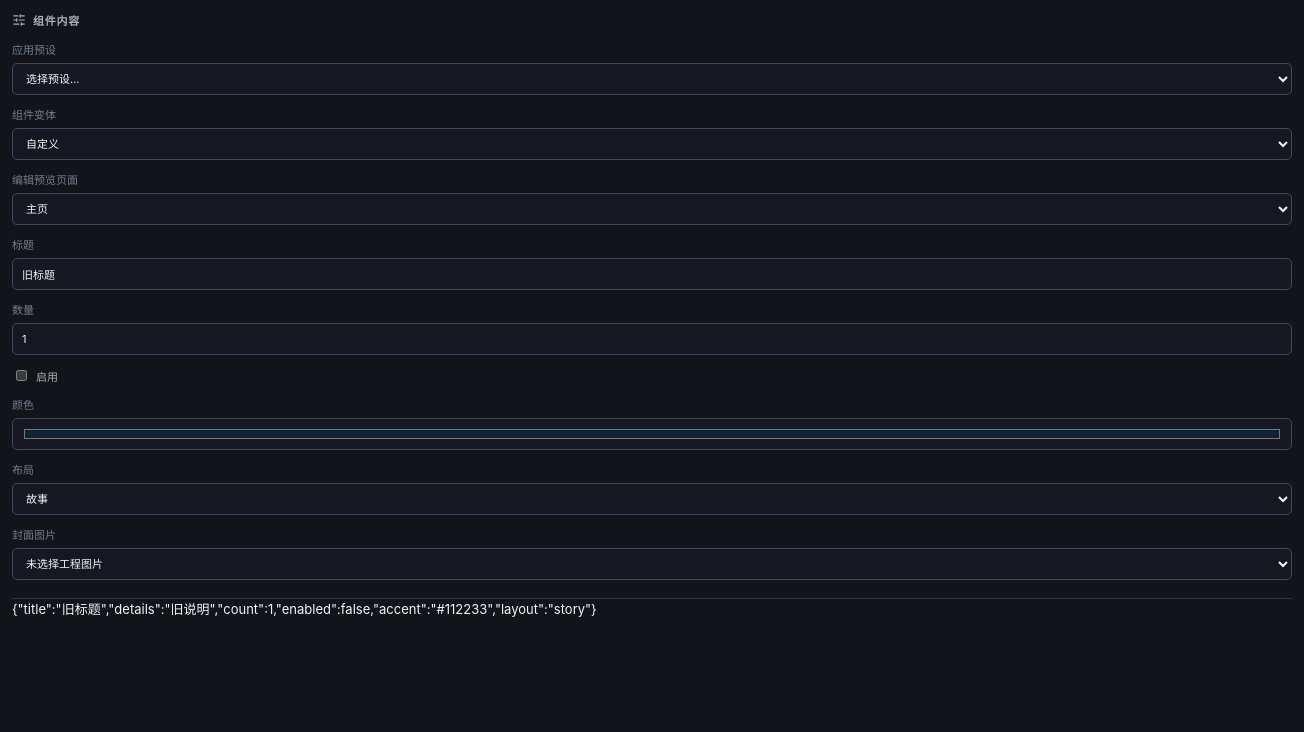
ComponentPropertiesEditor › edits every supported property type and switches internal preview pages
Step 1. Replace the text in the field labelled "标题" with "新标题" → point(652, 274), box [12,258,1292,290]
Step 2. Replace the text in the number field labelled "数量" with "5" → point(652, 339), box [12,323,1292,355]
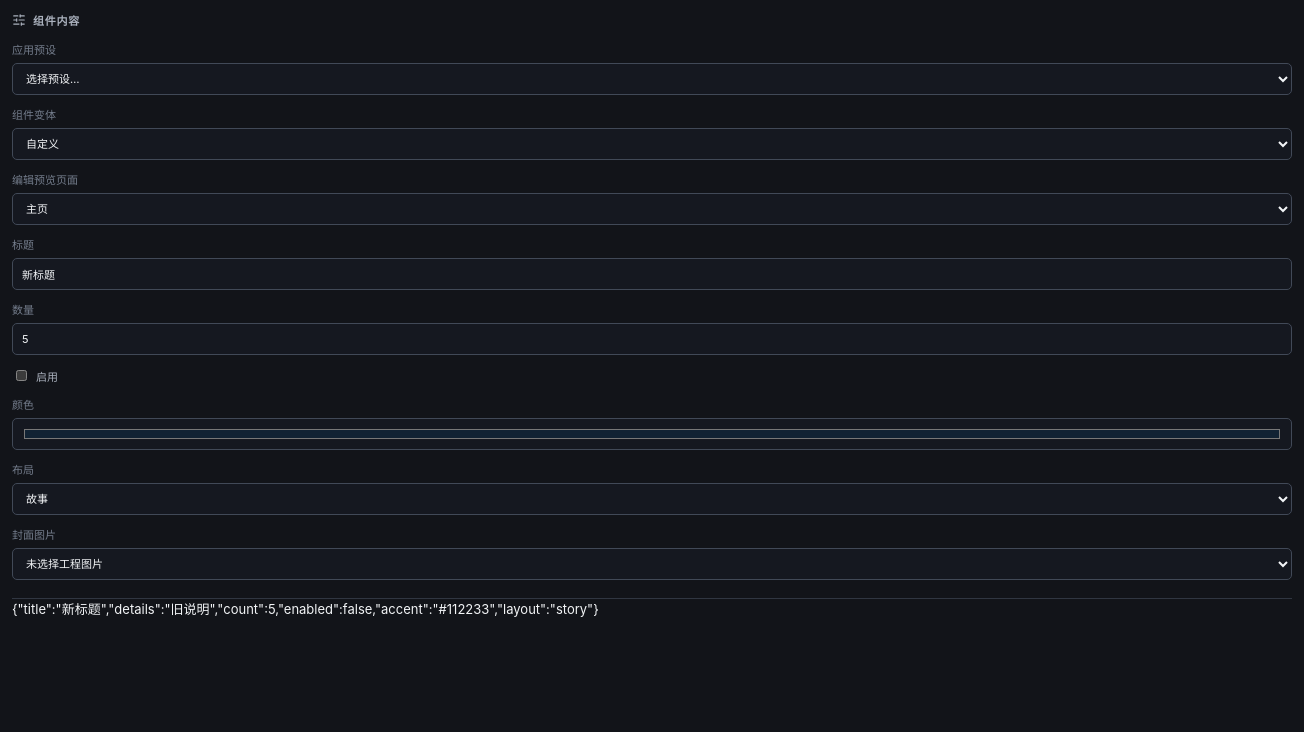
Step 3. Click the checkbox labelled "启用" → point(22, 376), box [16,369,27,382]
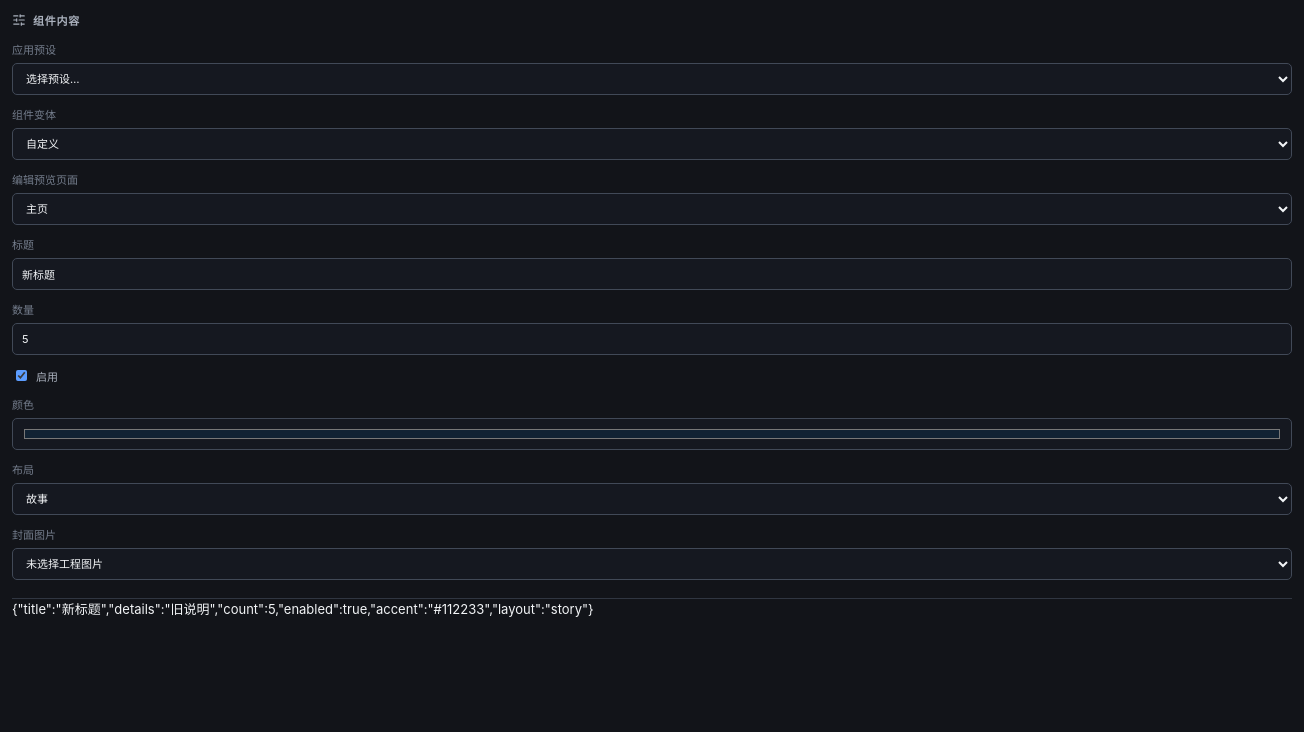
Step 4. Type "#abcdef" into the colour field labelled "颜色" → point(652, 434), box [12,418,1292,450]
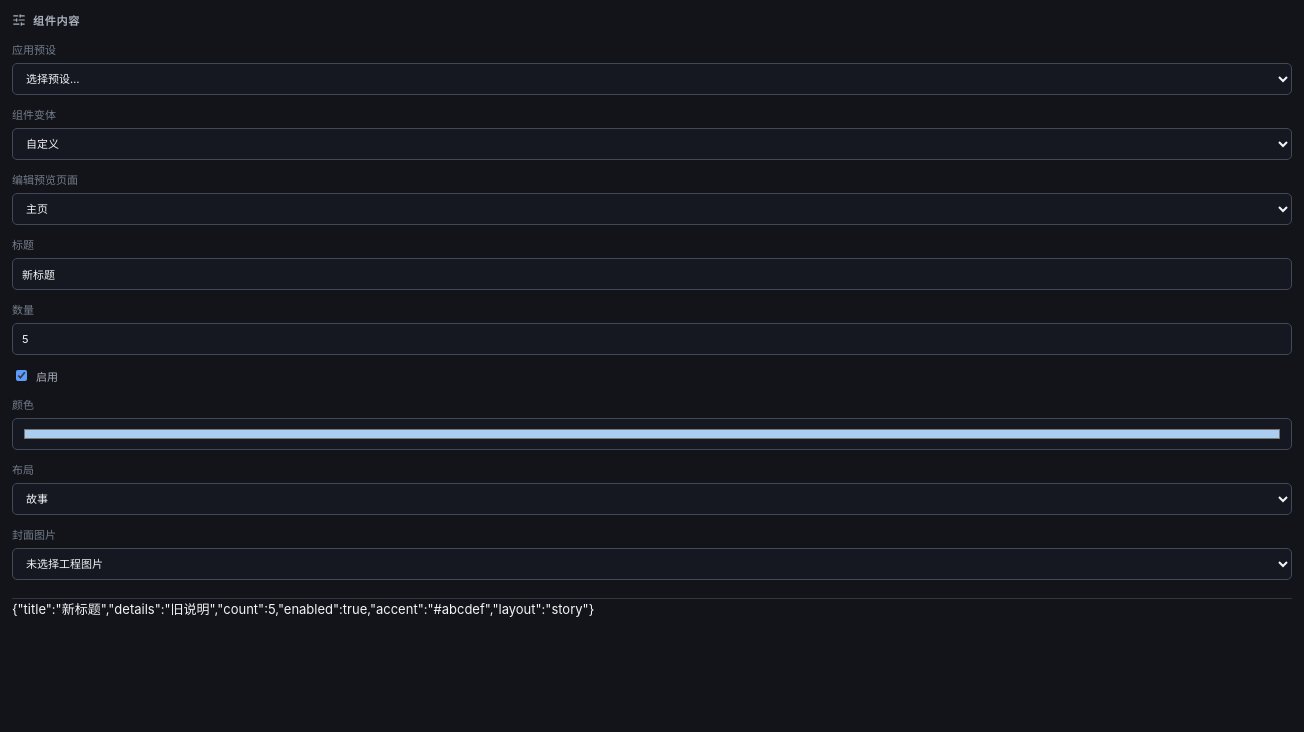
Step 5. Select "测验" in the dropdown labelled "布局" → point(652, 499), box [12,483,1292,515]
Step 6. Select "封面.png" in the dropdown labelled "封面图片" → point(652, 564), box [12,548,1292,580]
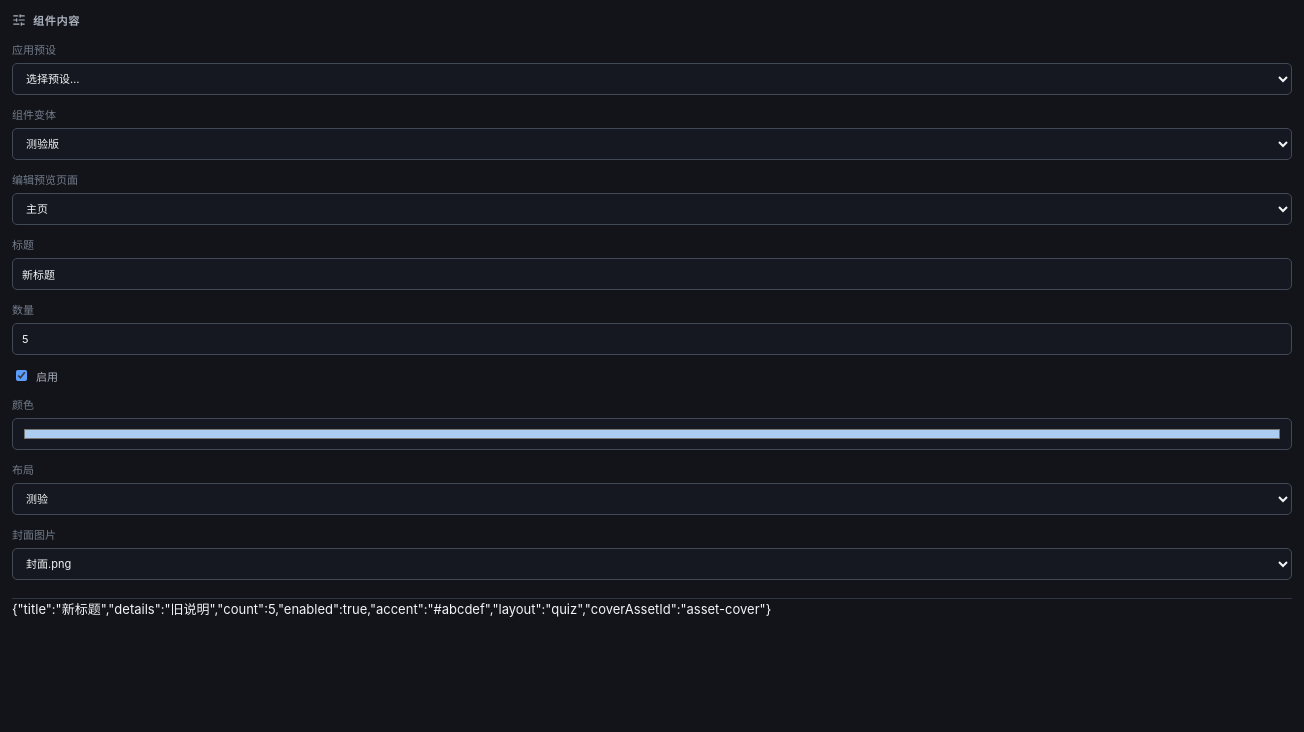
Check: the text with test id "props-value" shows "\"title\":\"新标题\"", box [12,601,771,617]
Check: the text with test id "props-value" shows "\"count\":5", box [12,601,771,617]
Check: the text with test id "props-value" shows "\"enabled\":true", box [12,601,771,617]
Step 7. Select "详情页" in the dropdown labelled "编辑预览页面" → point(652, 209), box [12,193,1292,225]
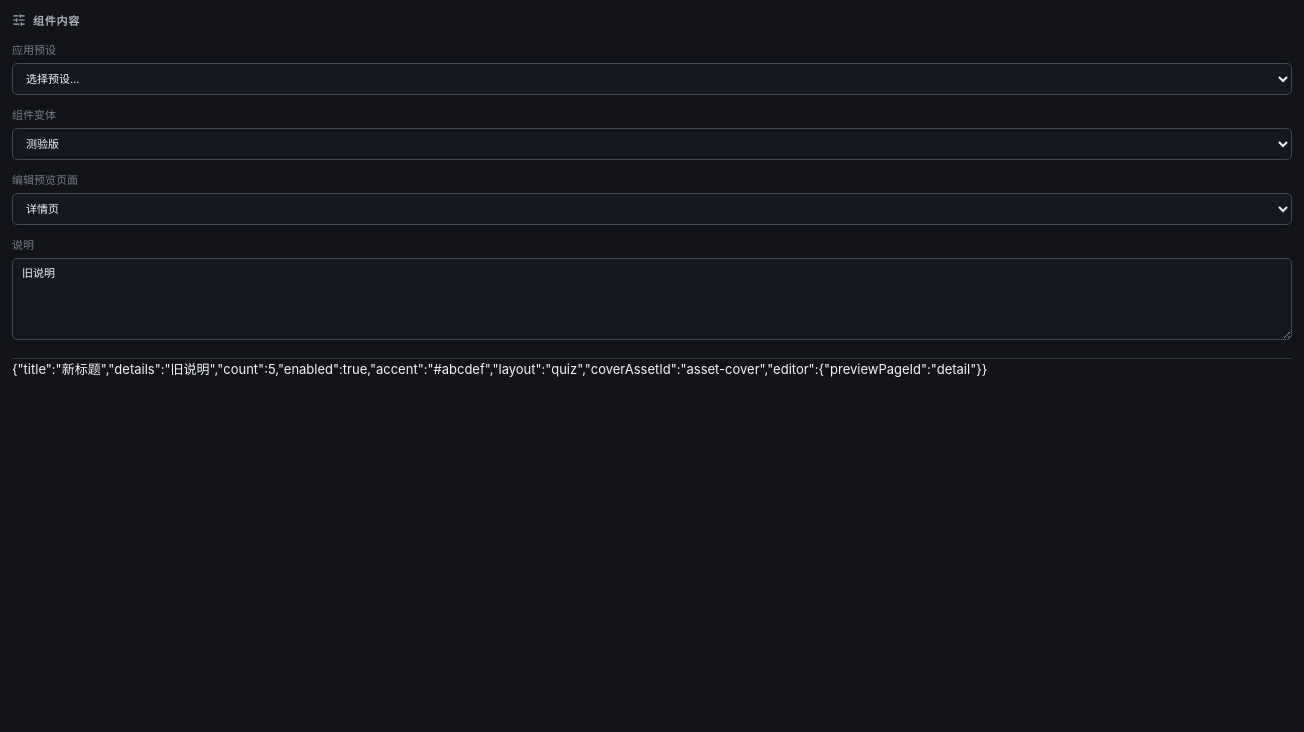
Step 8. Replace the text in the text box labelled "说明" with "新说明" → point(652, 299), box [12,258,1292,340]
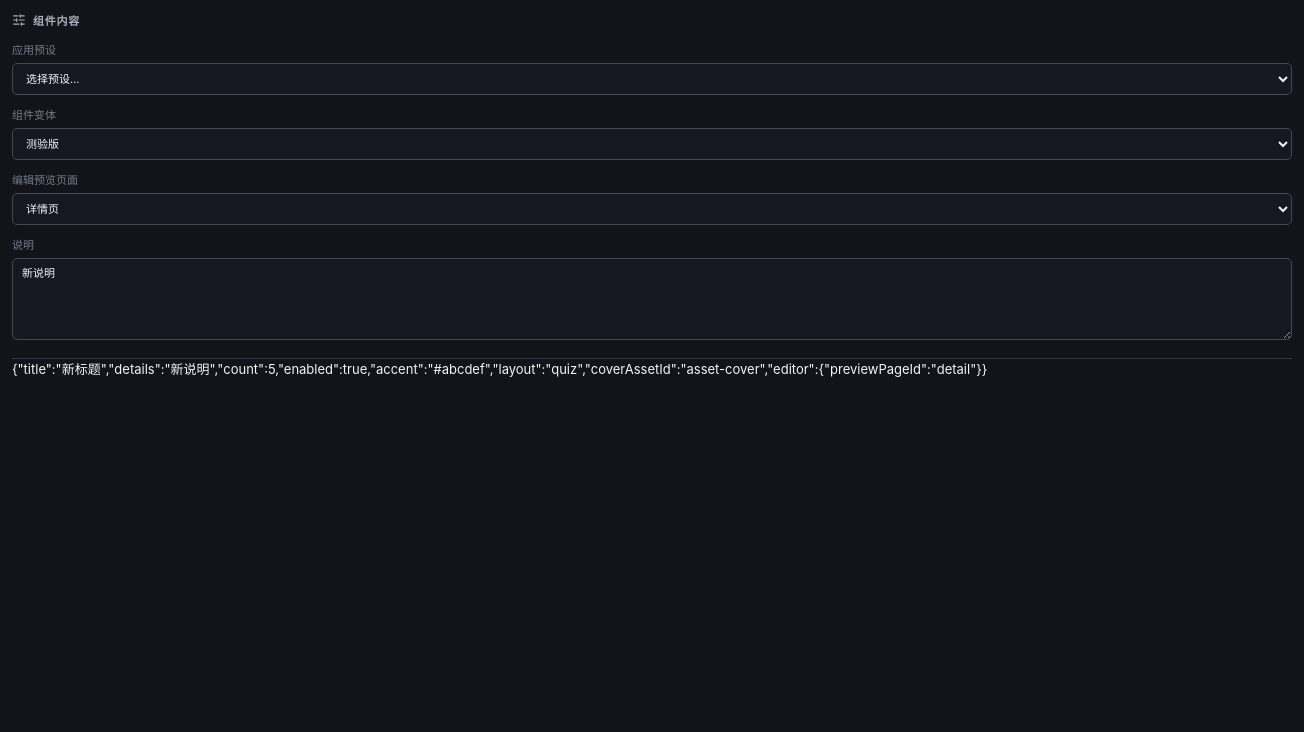
Check: the text with test id "props-value" shows "\"editor\":{\"previewPageId\":\"detail\"}", box [12,361,987,377]
Check: the text with test id "props-value" shows "\"details\":\"新说明\"", box [12,361,987,377]
